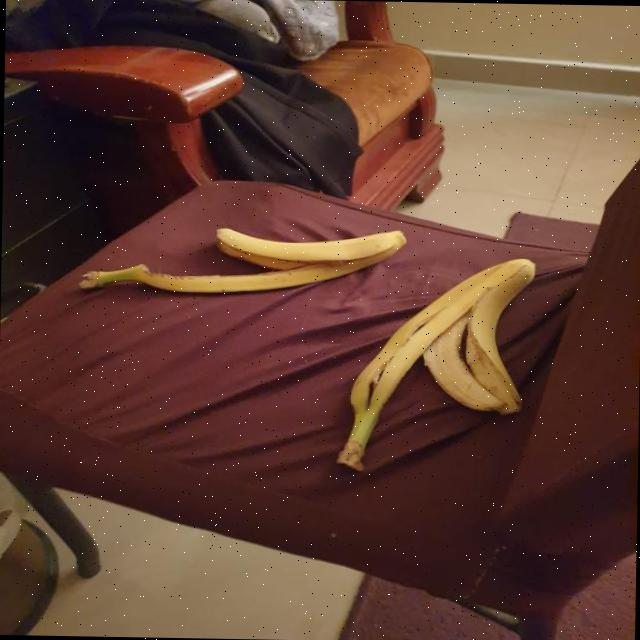banana-peel: (334, 252, 536, 473), (76, 220, 406, 298)
